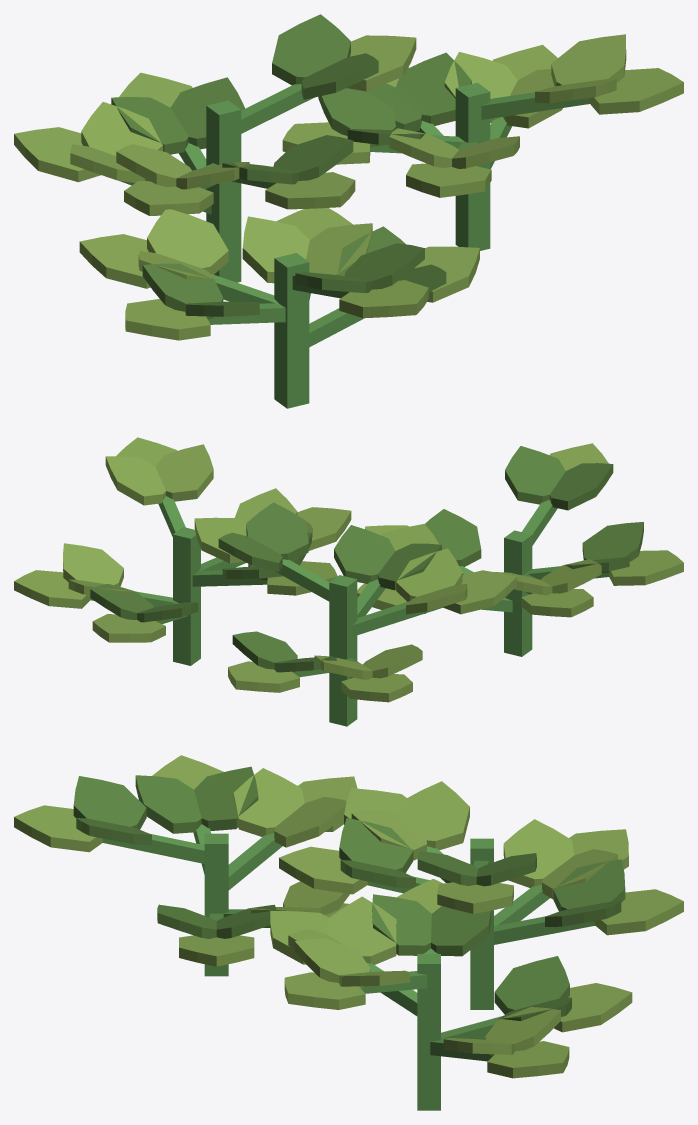
The model's file is crop_potato_growing.glb.
3 views of the same model, one above another, from view 1: azimuth 30°, elevation 25°; view 2: azimuth 150°, elevation 25°; view 3: azimuth 270°, elevation 25° (orthographic). The views are drawn at different scales.
Visible parts, largest first — view 1: body__leaf2.008, body__leaf.004, body__green2.006; view 2: body__leaf2.008, body__leaf.004, body__green2.006; view 3: body__leaf2.008, body__leaf.004, body__green2.006.
Boxes of the visible parts, bbox=[...] form: body__leaf2.008: bbox=[14, 34, 683, 340]; body__leaf.004: bbox=[111, 14, 471, 319]; body__green2.006: bbox=[119, 82, 589, 408]; body__leaf2.008: bbox=[14, 437, 683, 702]; body__leaf.004: bbox=[90, 446, 643, 672]; body__green2.006: bbox=[91, 496, 608, 726]; body__leaf2.008: bbox=[14, 755, 683, 1078]; body__leaf.004: bbox=[73, 766, 625, 1020]; body__green2.006: bbox=[103, 824, 594, 1110].
Bounding box in the file's own units: 0.7604 × 0.2504 × 0.7572.
